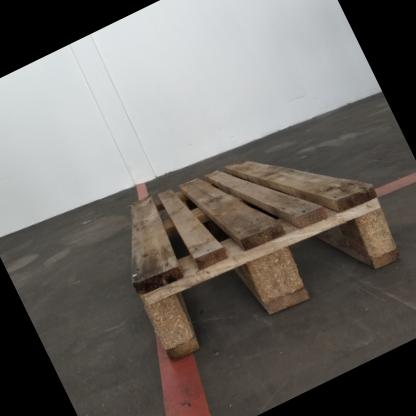BoxFace: (129, 153, 405, 368)
